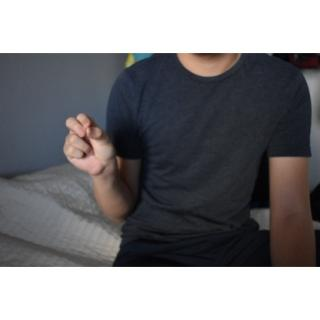QAAF: (61, 106, 116, 182)
